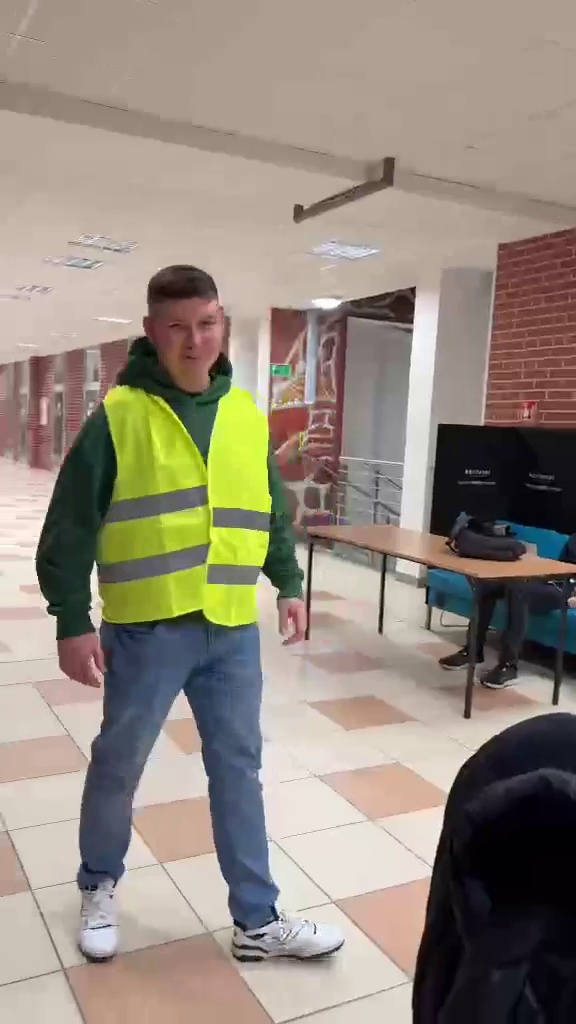vest: (38, 267, 340, 964)
